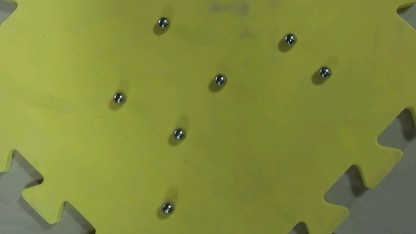ironball: (166, 123, 188, 143), (278, 28, 298, 50), (106, 88, 126, 105), (210, 70, 228, 88), (152, 15, 171, 31), (314, 62, 329, 81), (158, 201, 174, 216)
